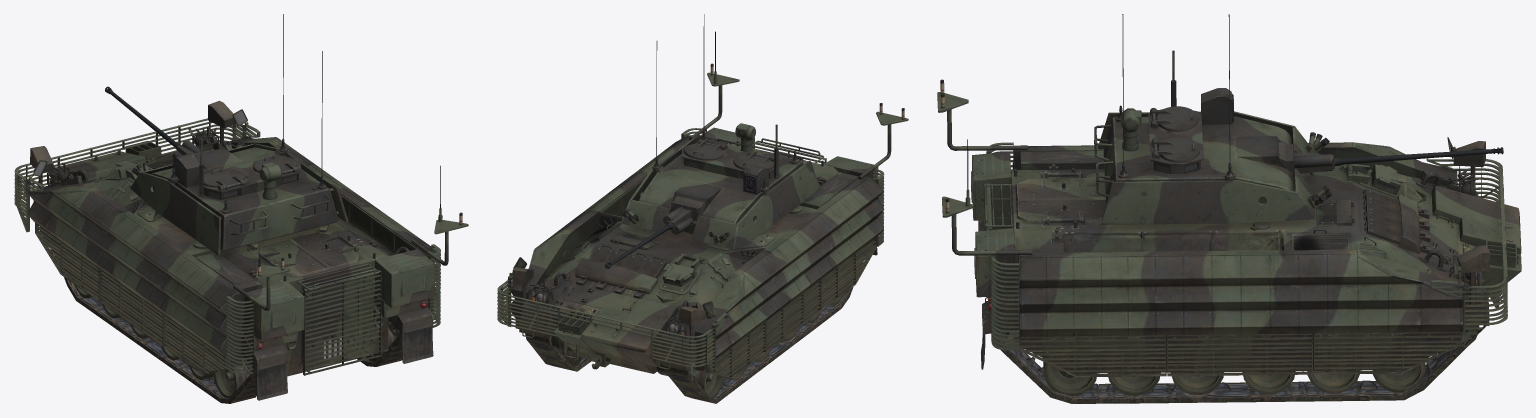
File: fv510_warrior.glb
3 renders of one model, left to right at view 1: azimuth 30°, elevation 25°; view 2: azimuth 150°, elevation 25°; view 3: azimuth 270°, elevation 25°, orthographic. The views are drawn at different scales.
Visible parts, largest first — view 1: Object_Main_Body.jpg, Object_Track.jpg; view 2: Object_Main_Body.jpg, Object_Track.jpg; view 3: Object_Main_Body.jpg, Object_Track.jpg.
Boxes of the visible parts, x1,y1,x2,y2 form: Object_Main_Body.jpg: [14, 14, 468, 400]; Object_Track.jpg: [64, 273, 402, 403]; Object_Main_Body.jpg: [497, 14, 908, 398]; Object_Track.jpg: [525, 283, 853, 403]; Object_Main_Body.jpg: [937, 14, 1521, 396]; Object_Track.jpg: [996, 325, 1479, 403].
Size of the model in its own units: 0.0134 by 0.0172 by 0.025.
Materials: 2 (2 with a texture image).
